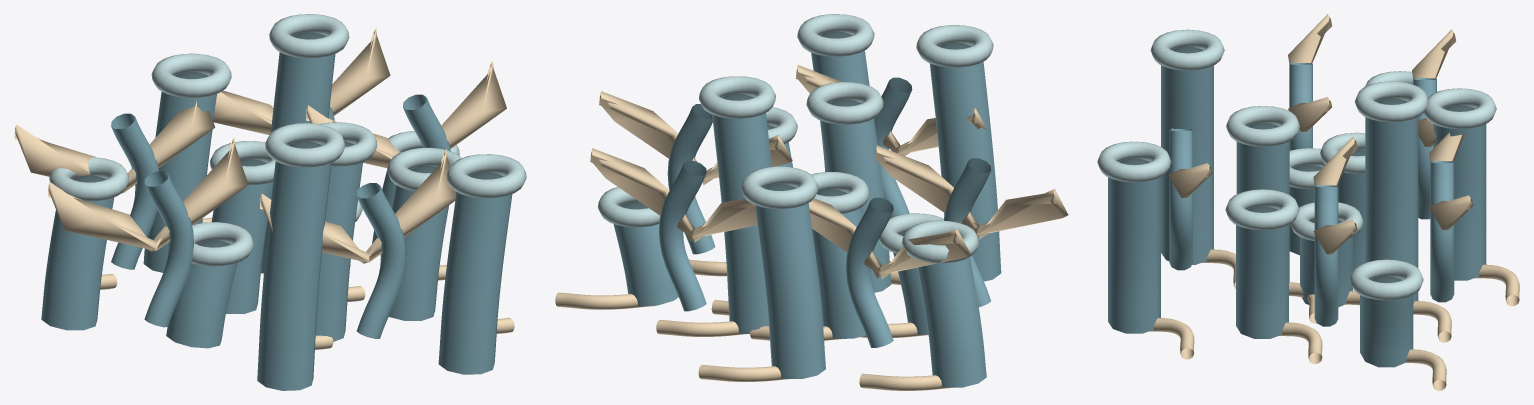
The model's file is bio_thermal_colony_07_near.glb.
The picture shows the model from 3 angles, left to right: view 1: azimuth 30°, elevation 25°; view 2: azimuth 150°, elevation 25°; view 3: azimuth 270°, elevation 25°; orthographic projection. The views are drawn at different scales.
Parts seen in each view (by area): view 1: Chimney biofilm.007, Chimney biofilm.010, Secondary fan lobe.008, Chimney biofilm.009, Chimney biofilm.002, Secondary fan lobe.002, Secondary fan lobe.006, Chimney biofilm.004, Chimney biofilm.005, Branching support.004, Branching support.002, Chimney biofilm.003 (+16 smaller); view 2: Chimney biofilm.006, Chimney biofilm.007, Chimney biofilm.003, Chimney biofilm.009, Secondary fan lobe.008, Secondary fan lobe.006, Chimney biofilm.002, Branching support.003, Branching support.001, Chimney biofilm.008, Chimney biofilm.001, Secondary fan lobe.002 (+22 smaller); view 3: Chimney biofilm.010, Chimney biofilm.003, Chimney biofilm.007, Chimney biofilm.005, Chimney biofilm.006, Chimney biofilm.008, Branching support, Branching support.003, Branching support.002, Chimney biofilm.002, Open vent rim.003, Open vent rim.008 (+26 smaller).
Boxes of the visible parts, bbox=[...] form: Chimney biofilm.007: bbox=[257, 143, 331, 390]; Chimney biofilm.010: bbox=[438, 175, 512, 374]; Secondary fan lobe.008: bbox=[47, 137, 248, 251]; Chimney biofilm.009: bbox=[41, 178, 114, 330]; Chimney biofilm.002: bbox=[315, 143, 362, 341]; Secondary fan lobe.002: bbox=[14, 101, 215, 193]; Secondary fan lobe.006: bbox=[213, 27, 390, 134]; Chimney biofilm.004: bbox=[166, 243, 237, 348]; Chimney biofilm.005: bbox=[388, 168, 448, 320]; Branching support.004: bbox=[144, 171, 193, 327]; Branching support.002: bbox=[356, 183, 406, 338]; Chimney biofilm.003: bbox=[261, 34, 335, 273]; Chimney biofilm.006: bbox=[755, 186, 825, 379]; Chimney biofilm.007: bbox=[929, 45, 1001, 281]; Chimney biofilm.003: bbox=[712, 96, 771, 333]; Chimney biofilm.009: bbox=[918, 257, 986, 387]; Secondary fan lobe.008: bbox=[875, 145, 1068, 239]; Secondary fan lobe.006: bbox=[590, 148, 757, 242]; Chimney biofilm.002: bbox=[820, 102, 891, 292]; Branching support.003: bbox=[659, 161, 706, 311]; Branching support.001: bbox=[846, 197, 893, 347]; Chimney biofilm.008: bbox=[613, 205, 678, 306]; Chimney biofilm.001: bbox=[812, 191, 873, 338]; Secondary fan lobe.002: bbox=[808, 198, 970, 278]; Chimney biofilm.010: bbox=[1108, 161, 1160, 333]; Chimney biofilm.003: bbox=[1365, 100, 1418, 303]; Chimney biofilm.007: bbox=[1161, 49, 1213, 264]; Chimney biofilm.005: bbox=[1236, 208, 1288, 338]; Chimney biofilm.006: bbox=[1433, 107, 1486, 280]; Chimney biofilm.008: bbox=[1360, 279, 1413, 367]; Branching support: bbox=[1314, 185, 1338, 326]; Branching support.003: bbox=[1430, 161, 1454, 302]; Branching support.002: bbox=[1169, 129, 1192, 270]; Chimney biofilm.002: bbox=[1236, 125, 1289, 282]; Open vent rim.003: bbox=[1354, 81, 1428, 122]; Open vent rim.008: bbox=[1349, 259, 1423, 300].
Bounding box in the file's own units: 1.85 × 0.9495 × 1.59.
